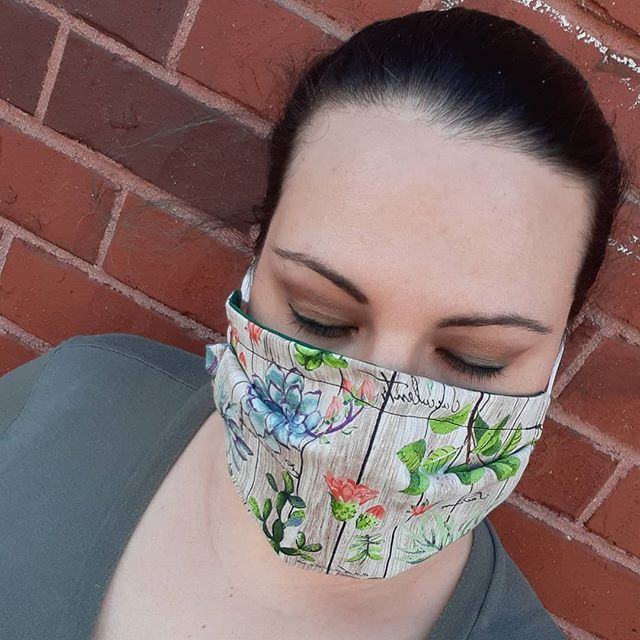homemade: (218, 335, 550, 575)
